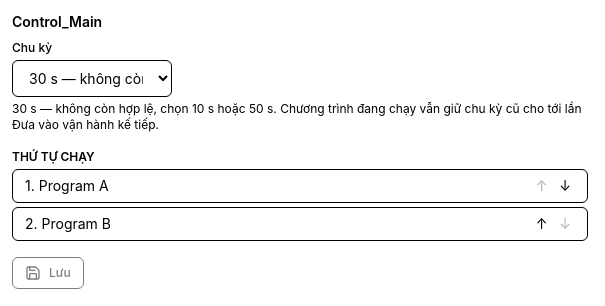
Test: ExecutionTab › chu kỳ legacy 30000 ms hiện rõ là không còn hợp lệ, không bị ép và không được Lưu
This screenshot has width=605, height=306.
Expected: the dropdown labelled "Chu kỳ" shows "30 s — không còn hợp lệ", [12, 60, 172, 97]
Expected: the message with test id "programming-task-period-invalid" shows "30 s — không còn hợp lệ, chọn 10 s hoặc 50 s", [12, 101, 582, 132]
Note: Đổi thứ tự khi chu kỳ còn không hợp lệ KHÔNG sinh thao tác nào.
Click the button named "Xuống" at (565, 186), box [555, 176, 575, 196]
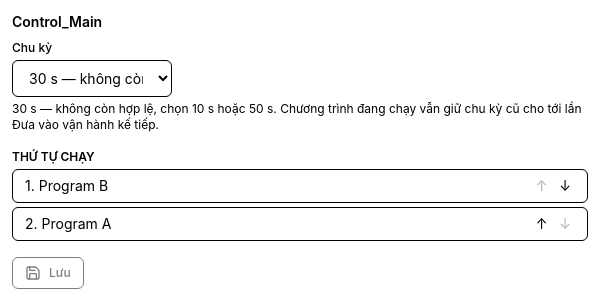
Expected: the button "Lưu" is disabled, [12, 257, 84, 289]
Select "50 s" in the dropdown labelled "Chu kỳ" at (92, 78), box [12, 60, 172, 97]
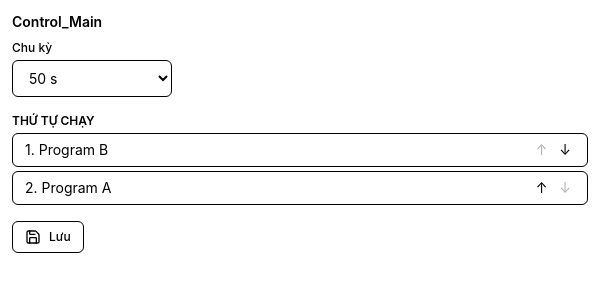
Now the message with test id "programming-task-period-invalid" is gone
